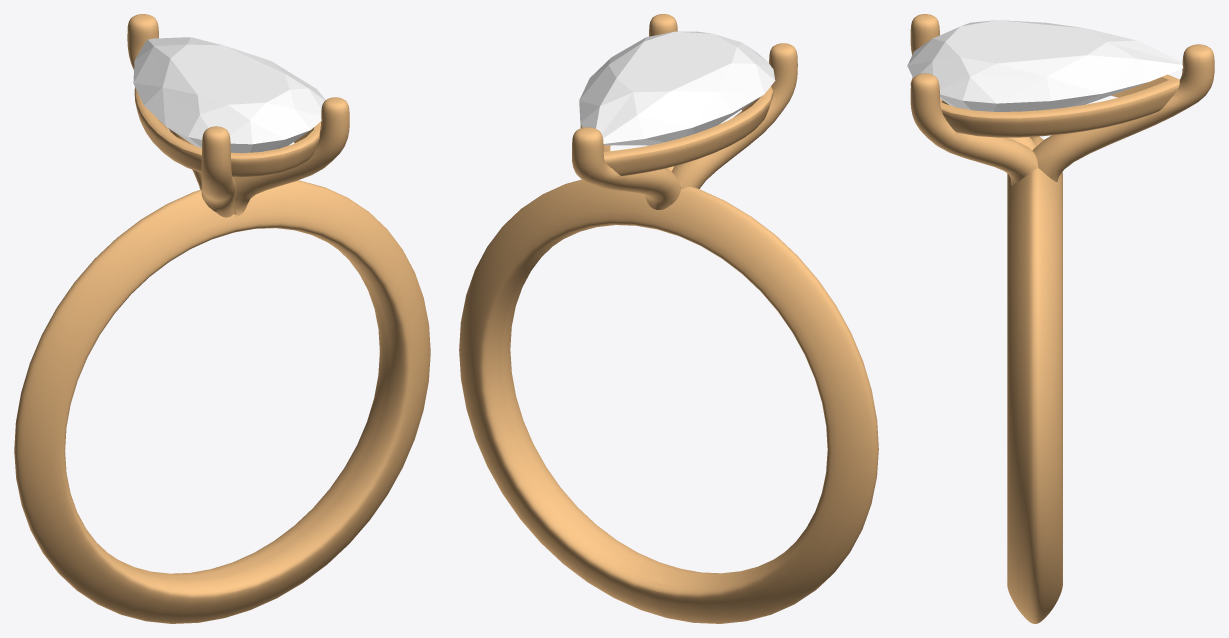
The picture shows the model from 3 angles, left to right: view 1: azimuth 30°, elevation 25°; view 2: azimuth 150°, elevation 25°; view 3: azimuth 270°, elevation 25°; orthographic projection. The views are drawn at different scales.
Parts seen in each view (by area): view 1: object 1, PART0001; view 2: object 1, PART0001; view 3: object 1, PART0001.
Part boxes in pixels (bbox=[...]): object 1: bbox=[14, 14, 430, 623]; PART0001: bbox=[133, 37, 325, 153]; object 1: bbox=[459, 14, 878, 623]; PART0001: bbox=[579, 31, 775, 145]; object 1: bbox=[910, 14, 1214, 623]; PART0001: bbox=[907, 20, 1183, 111].
Size of the model in its own units: 2.31 by 2.92 by 1.45.
